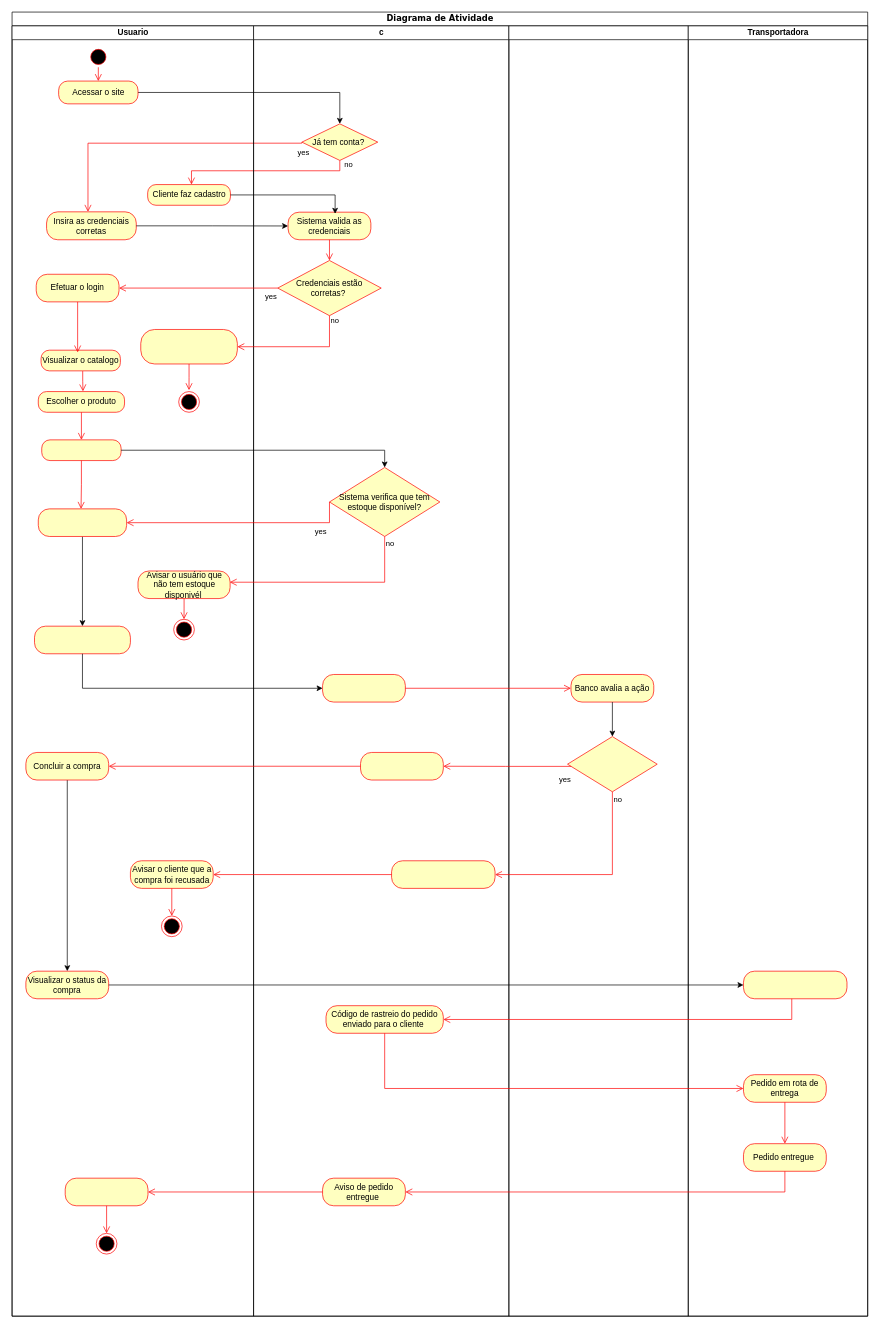
The diagram is 880 pixels wide and 1328 high, and some of its shapes have lost their labels. Here are the shapes that lost their labels. From the top down, the box of each, then its label:
(140, 329, 237, 364): Exibir uma mensagem de Erro para o usuario
(41, 439, 121, 461): Adicionar no carrinho
(38, 508, 127, 536): Adicionar a quantidade desejável
(34, 625, 130, 654): Realizar o pagamento da compra
(322, 674, 405, 702): Sistema manda para o banco
(508, 25, 688, 1316): Financeiro
(360, 752, 443, 780): Notificar que a compra foi aprovada
(567, 736, 657, 792): Banco aprova o pagamento?
(391, 860, 495, 888): Notificar o sistema que a compra não foi aprovada
(743, 970, 847, 999): Pedido recebido pela a transportadora
(65, 1177, 148, 1206): Cliente recebe o pedido
